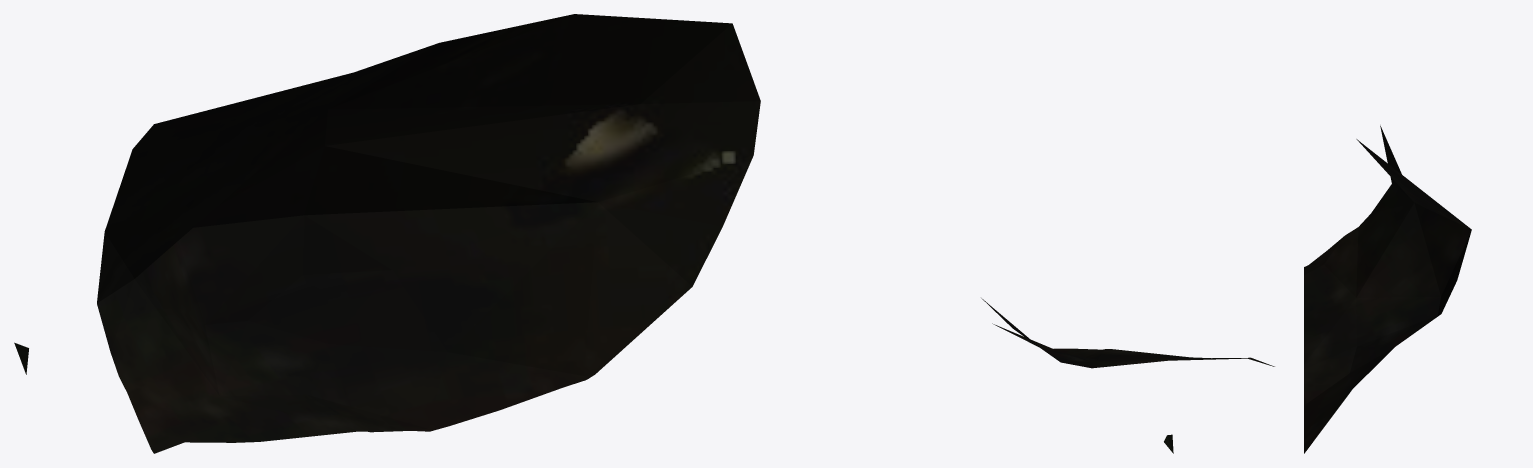
3 views of the same model, side by side, from view 1: azimuth 30°, elevation 25°; view 2: azimuth 150°, elevation 25°; view 3: azimuth 270°, elevation 25° (orthographic). The views are drawn at different scales.
Bounding box in the file's own units: 0.5518 × 0.3359 × 0.2203.
1 material, 1 textured.
